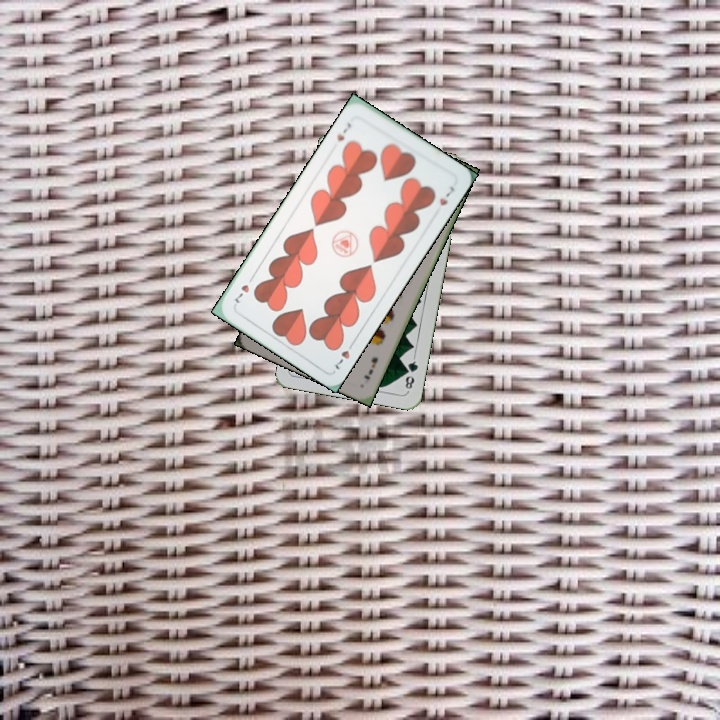E7: (360, 353, 380, 382)
G8: (401, 353, 421, 394)
H7: (331, 337, 357, 373), (333, 118, 354, 144)
